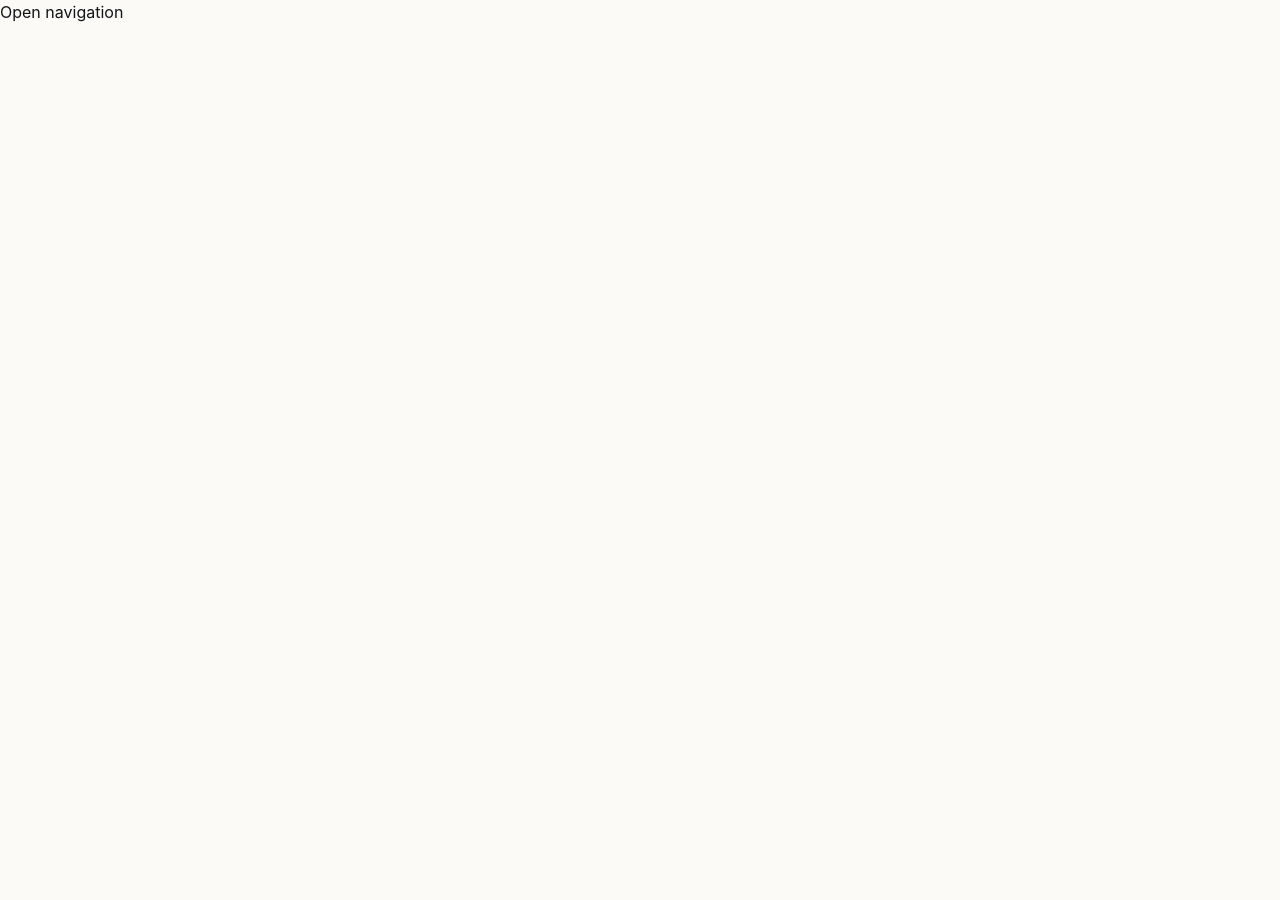
Drawer keyboard/focus behavior › closes on Escape
This screenshot has width=1280, height=900.
Later steps or results of the test are not shown.
Click the button "Open navigation" at (62, 12), box left=0, top=0, right=123, bottom=24
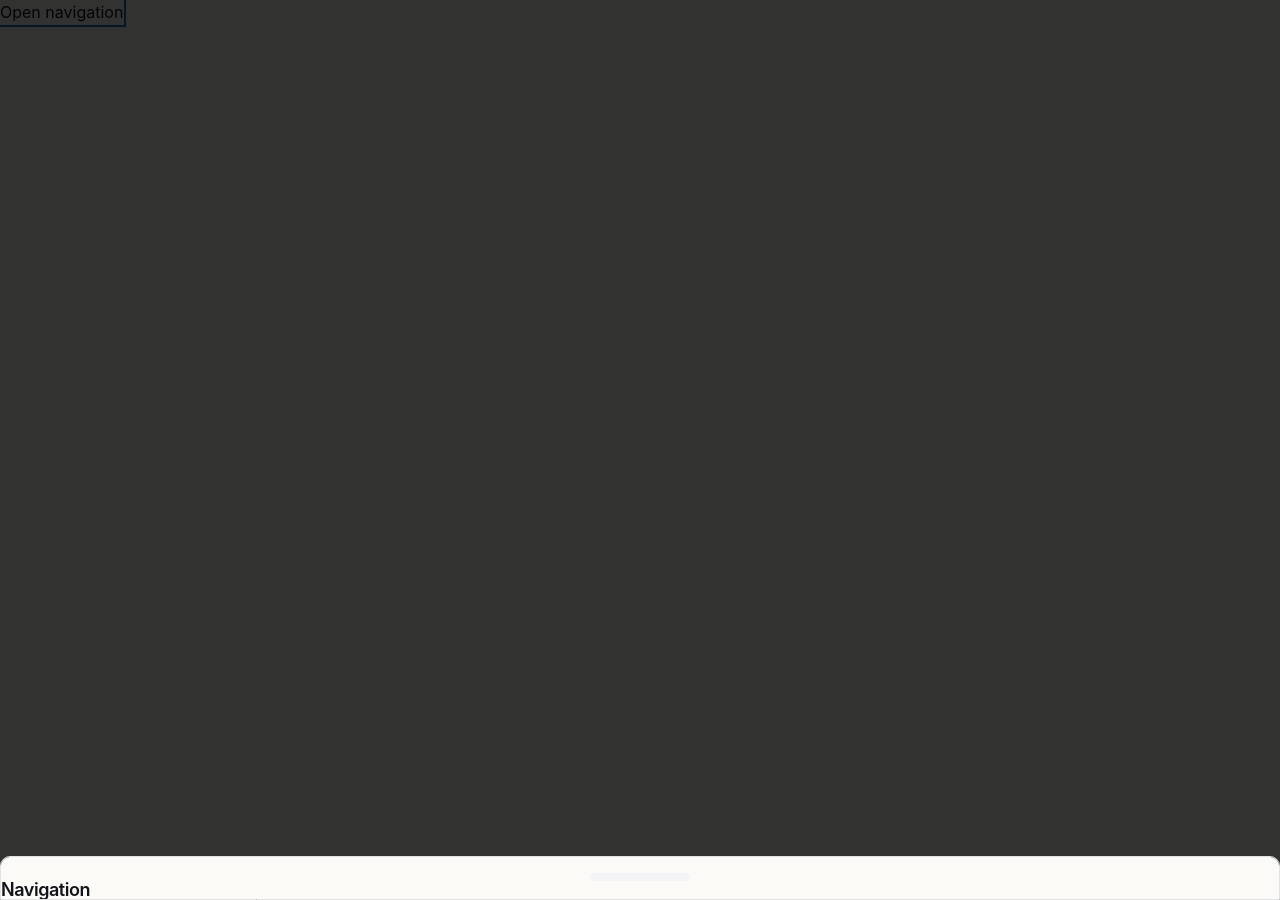
Expected: the dialog "Navigation" is shown, left=0, top=856, right=1279, bottom=899
